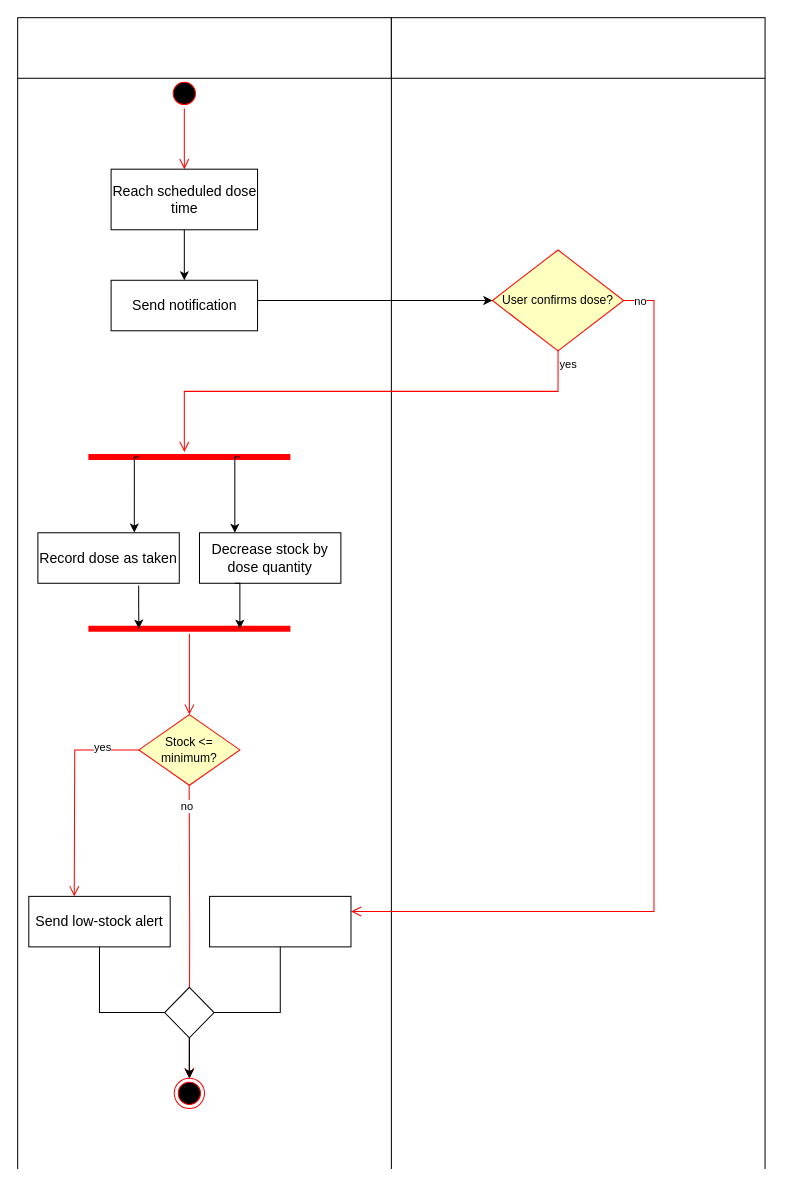
Some shapes in this 785 by 1188 pixel diagram are drawn without their labels. Here are the shapes that lost their labels. From the top down, the centre of each, then its label:
At (x=204, y=47): "System".
At (x=577, y=47): "User".
At (x=280, y=921): "Record dose as missed".
